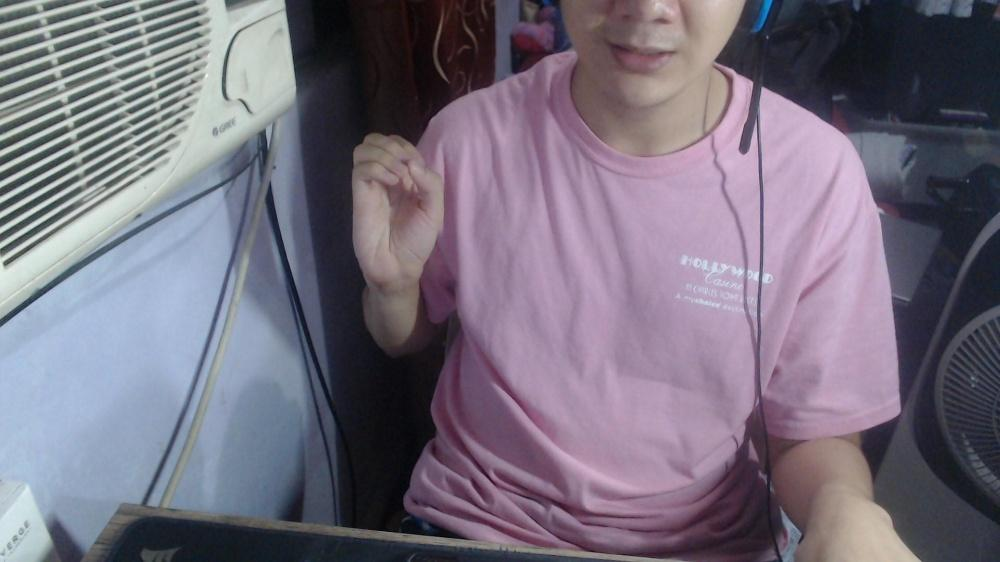o: (347, 128, 447, 291)
